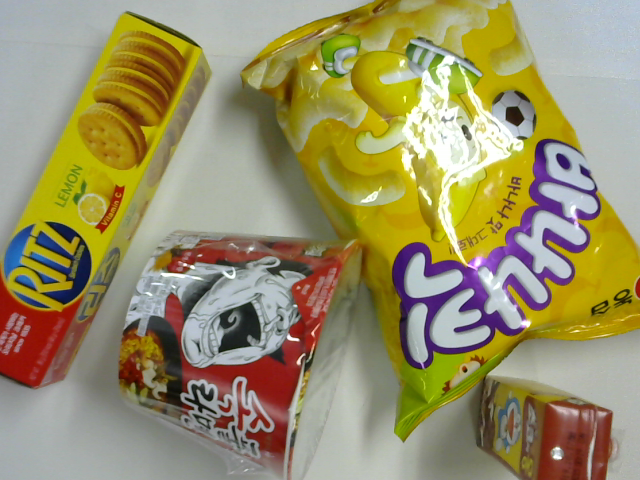Banana_Kick: (247, 11, 626, 408)
Choco_E_Mong: (468, 360, 615, 480)
Hejangpul: (104, 233, 393, 455)
Ritz_Remon_96g: (2, 1, 195, 385)
